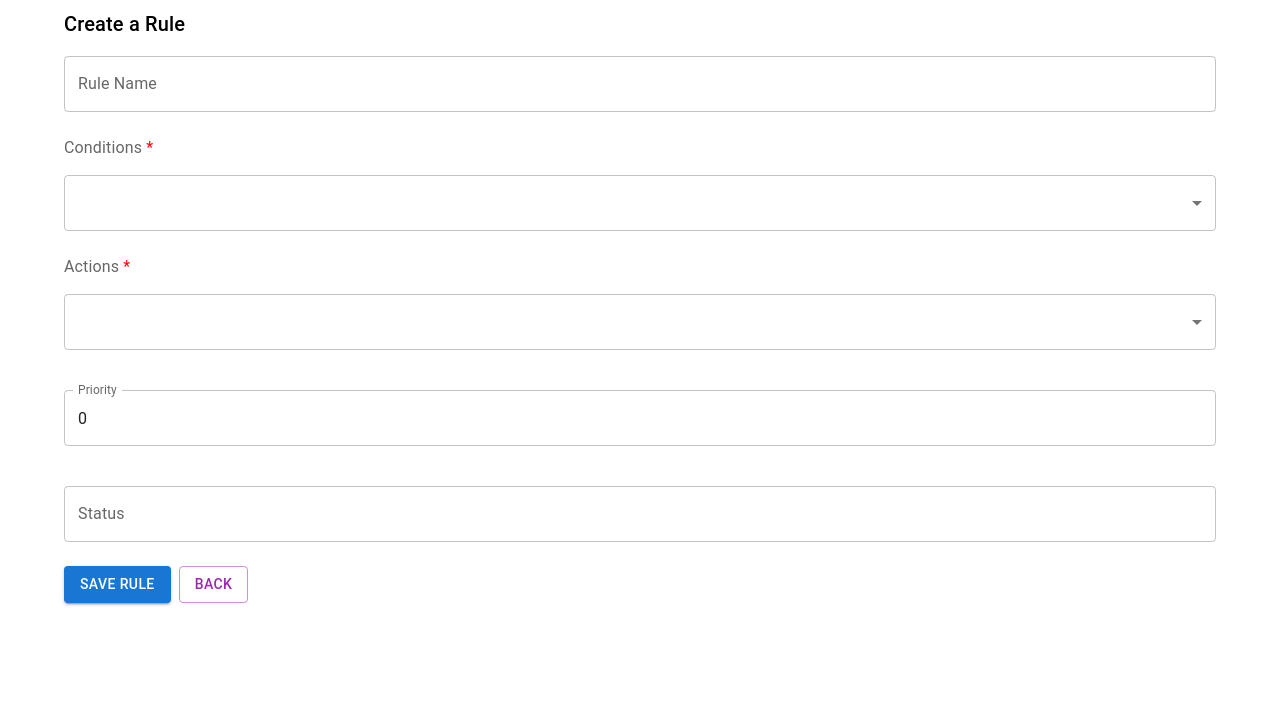
Test: SingleRuleForm › validates required fields on submit
Click the button "Save Rule" at (117, 584), box 64,566 -> 171,602
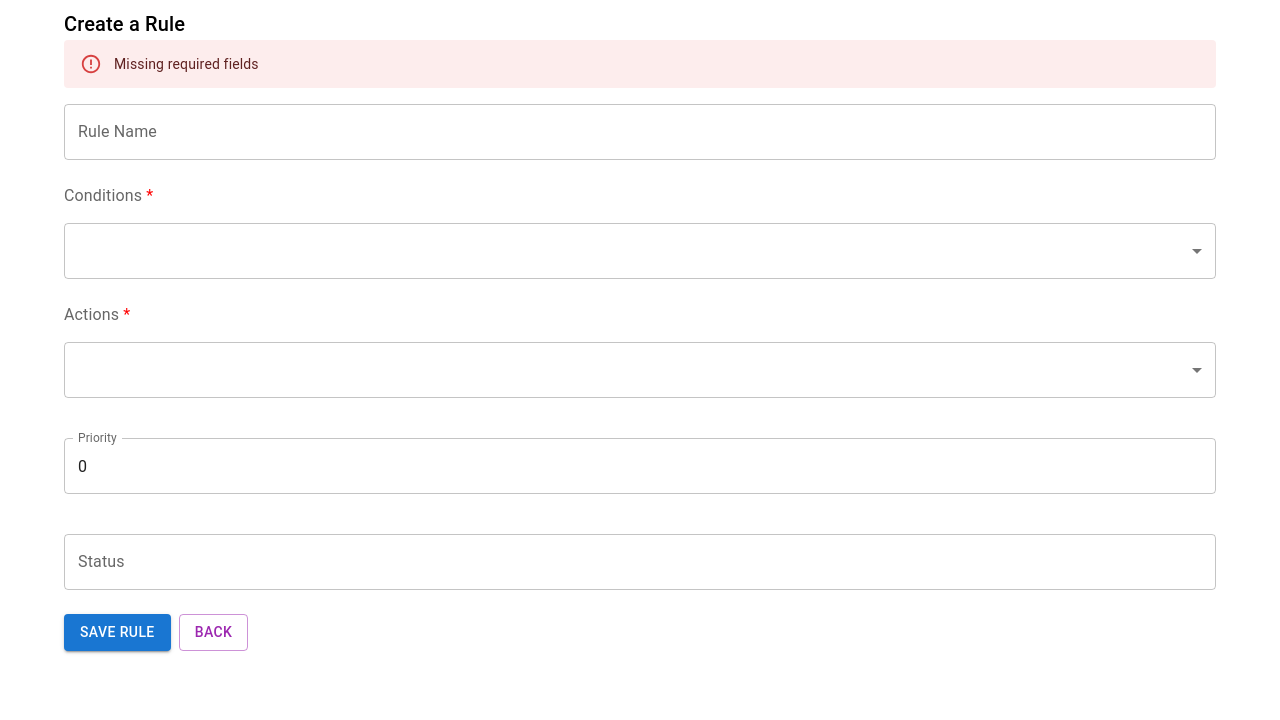
Now the text "Missing required fields" is shown, box 114,56 -> 259,72
